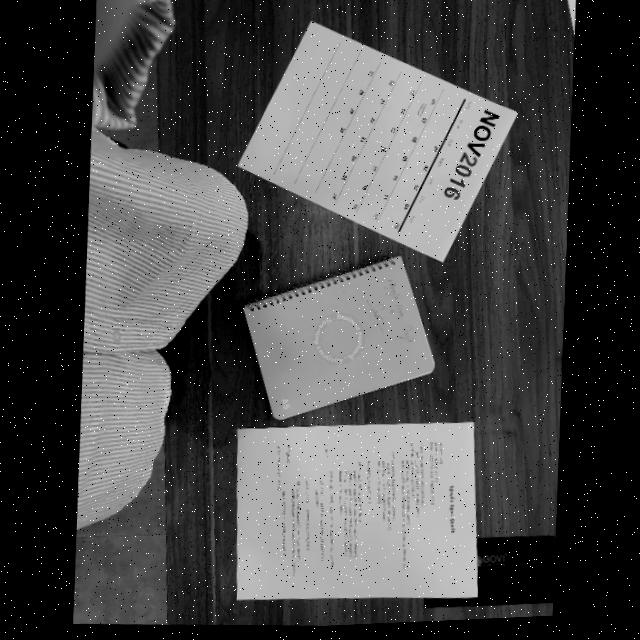document: (238, 22, 518, 261), (237, 423, 478, 600), (244, 257, 434, 419)
